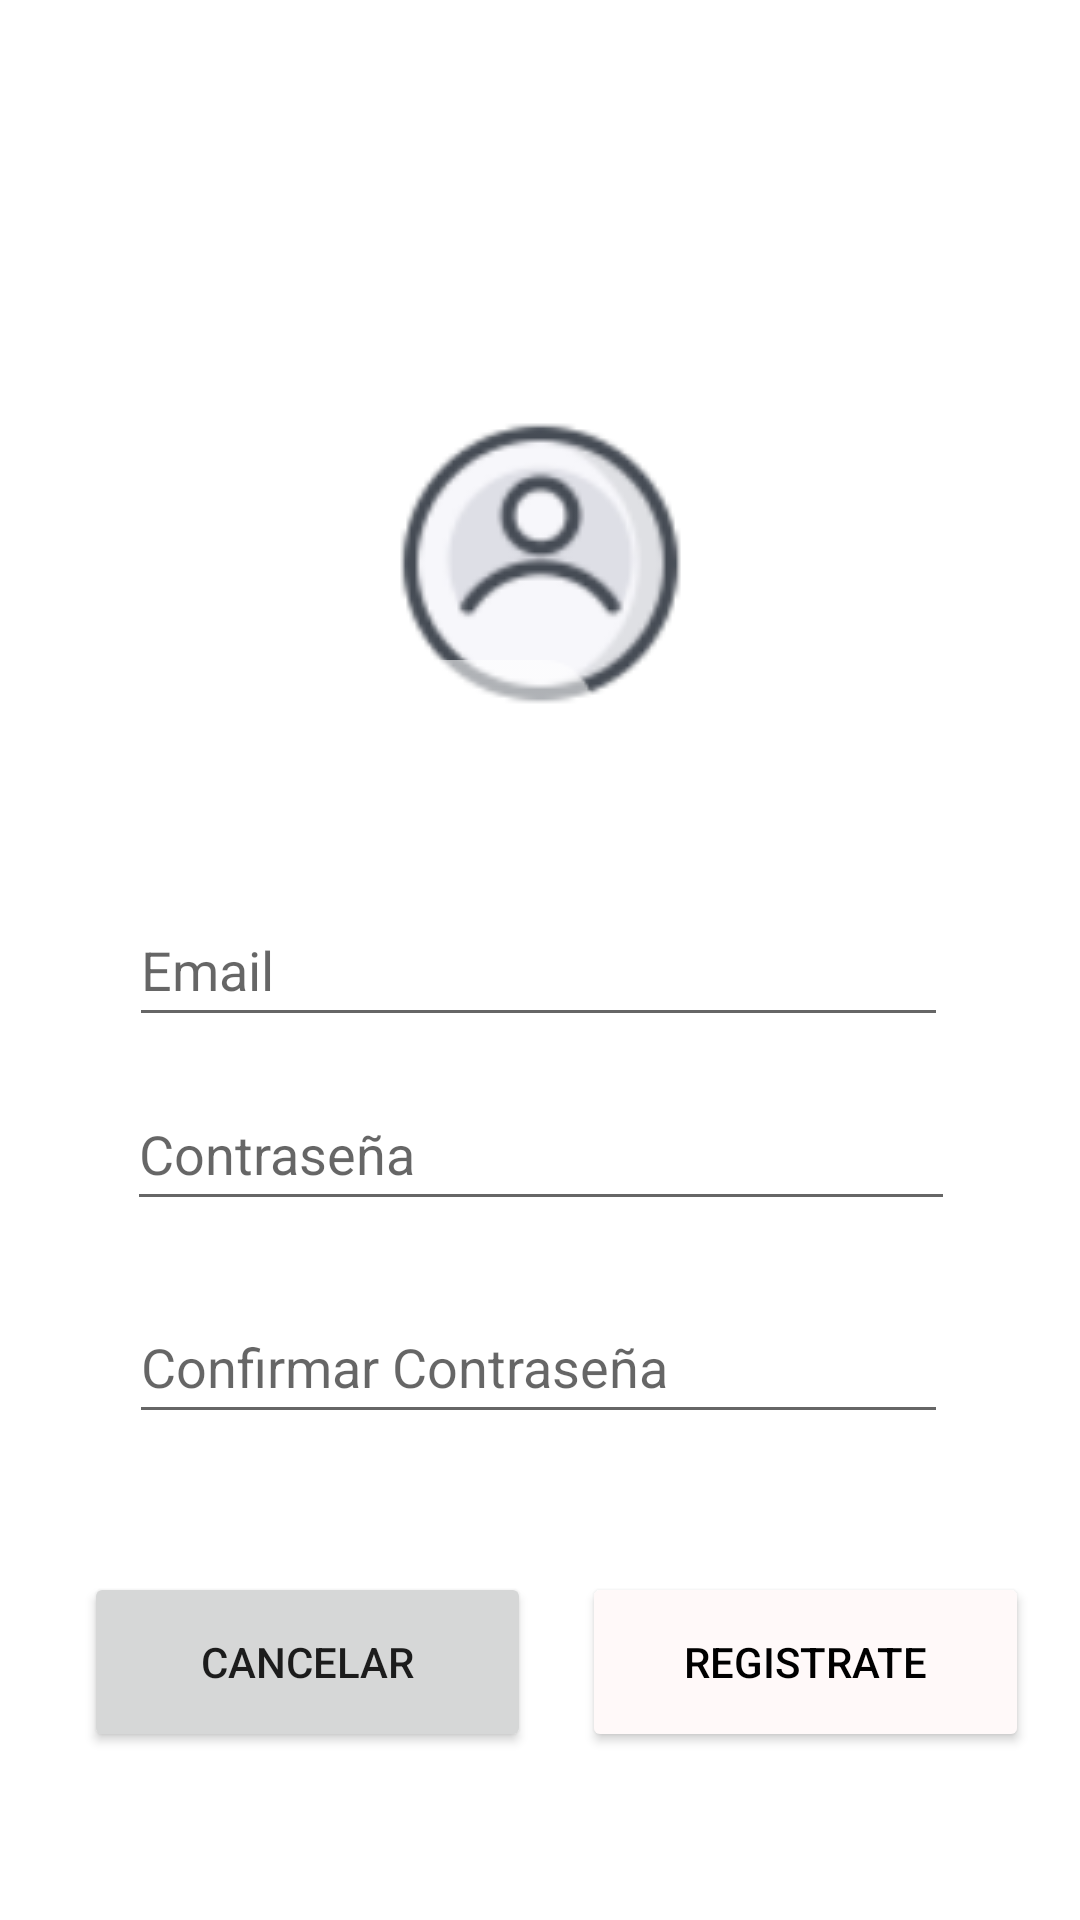

Where icons sit on this 1080 x 1920 app screen, as {"x1": x1, "y1": y1, "x2": x2, "y2": y2}:
usuario: {"x1": 401, "y1": 424, "x2": 680, "y2": 702}
